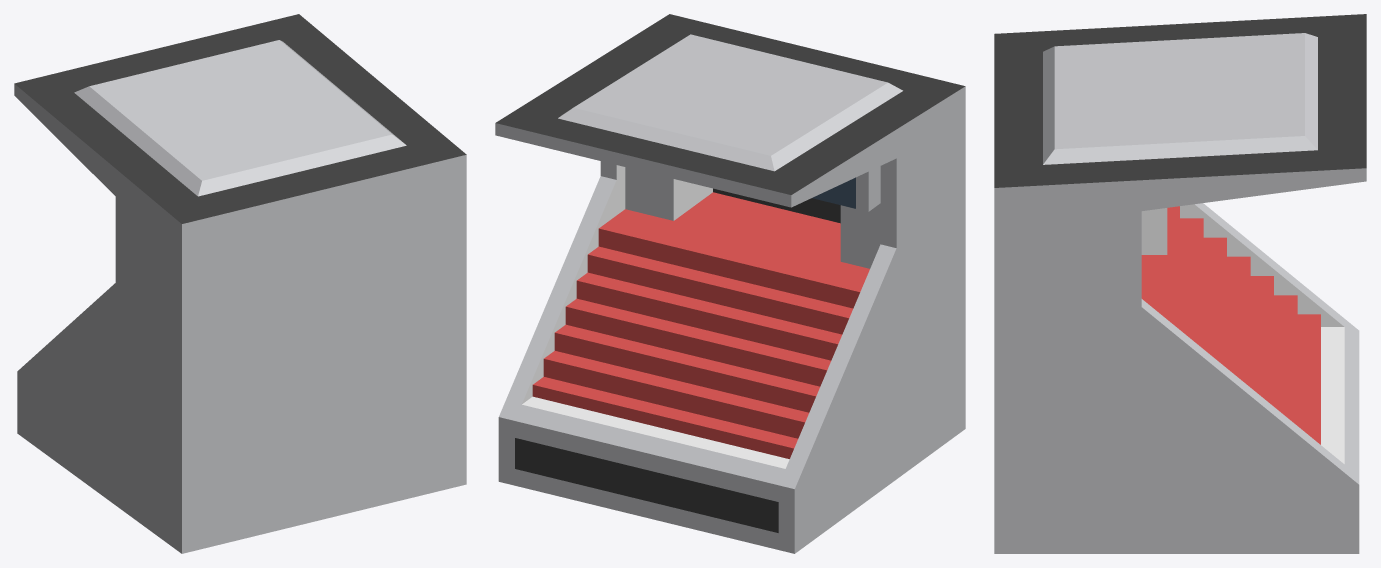
Rendered from grandStandCovered.obj.
3 views of the same model, side by side, from view 1: azimuth 30°, elevation 25°; view 2: azimuth 150°, elevation 25°; view 3: azimuth 270°, elevation 25° (orthographic). The views are drawn at different scales.
Parts seen in each view (by area): view 1: grandStandCovered; view 2: grandStandCovered; view 3: grandStandCovered.
Part boxes in pixels (x1,y1,x2,y2): grandStandCovered: (14,14,466,553); grandStandCovered: (495,14,965,553); grandStandCovered: (994,14,1366,553).
Bounding box in the file's own units: 1 × 1.19 × 1.02.
